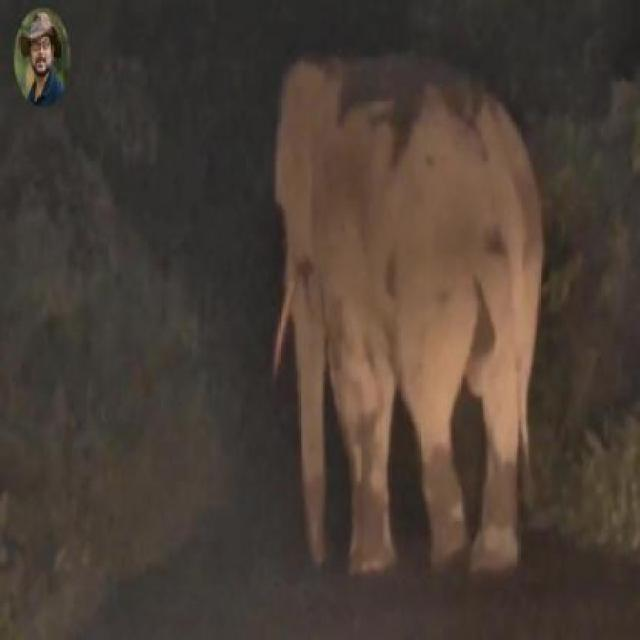Elephant: (274, 63, 546, 586)
